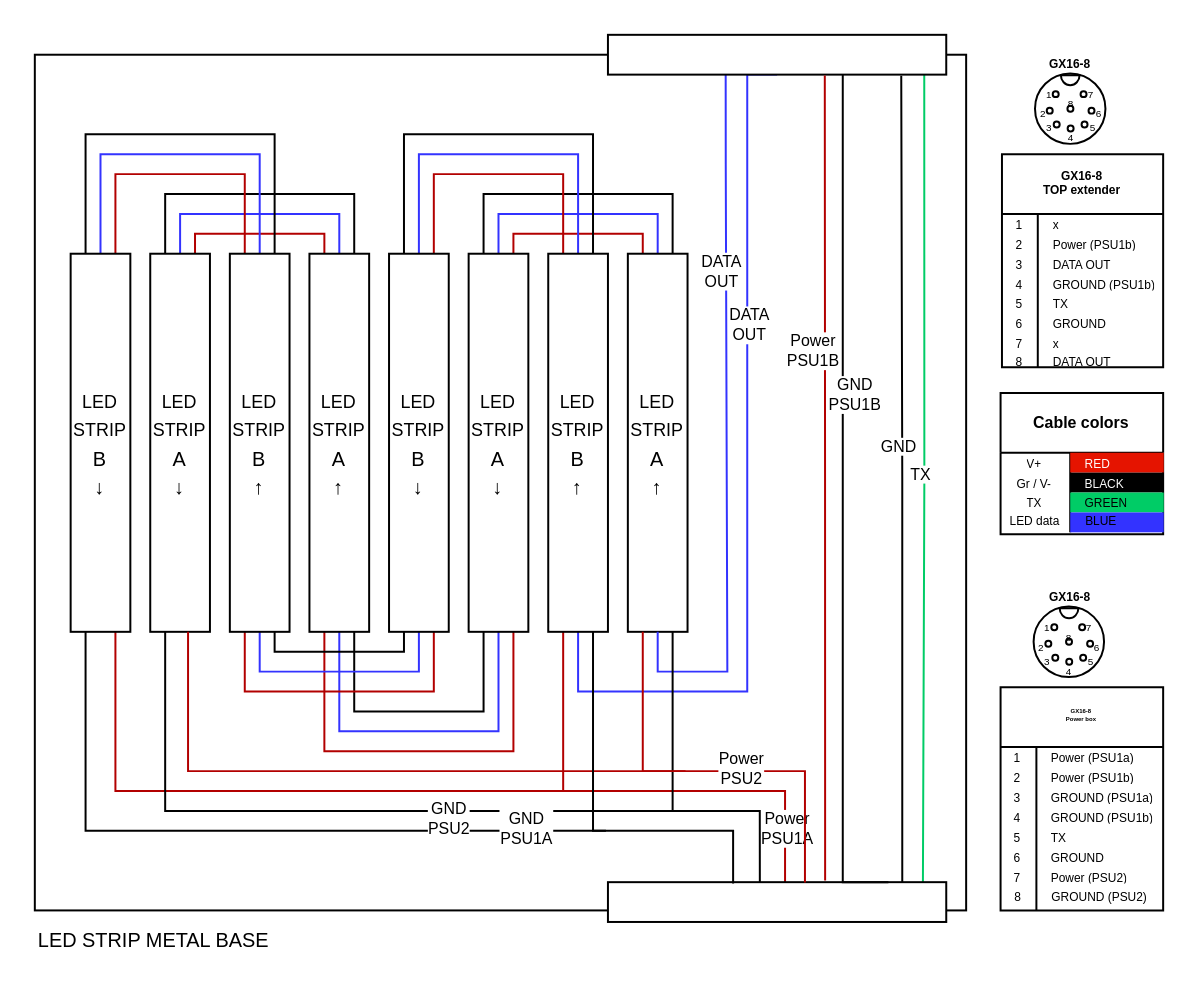
The diagram is 1200 pixels wide and 1005 high, and some of its shapes have lost their labels. Here are the shapes that lost their labels. From the top down, the centre of each, then its label:
At pixel 776 54: "GX16 8 pin male".
At pixel 776 901: "GX16 8 pin female".
